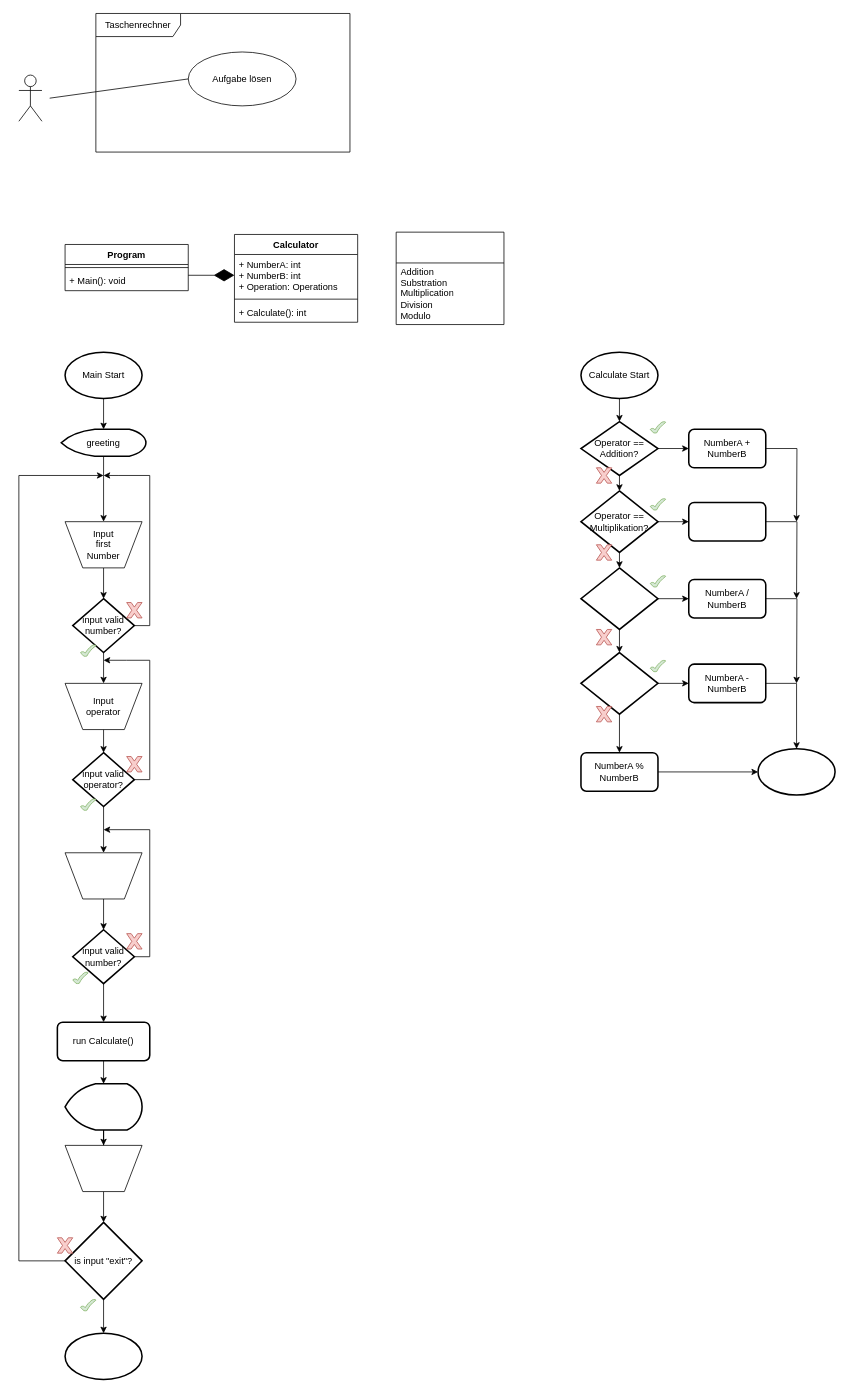
Some shapes in this 849 by 1394 pixel diagram are drawn without their labels. Here are the shapes that lost their labels. From the top down, the box of each, then its label:
(18, 74, 42, 121): Actor
(395, 231, 504, 325): <<enumeration>> Operations
(688, 501, 766, 541): NumberA * NumberB
(580, 567, 658, 630): Operator == Division?
(580, 651, 658, 715): Operator == Substration?
(757, 748, 835, 795): Calculate End
(64, 852, 142, 899): Input second Number
(64, 1083, 142, 1130): display result Exit?
(64, 1145, 142, 1192): Read from console
(64, 1332, 142, 1380): Main End
